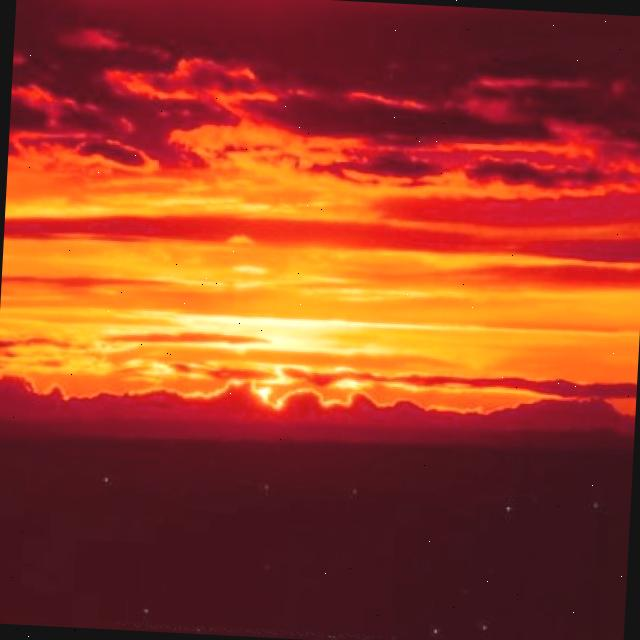As: (1, 54, 640, 424)
